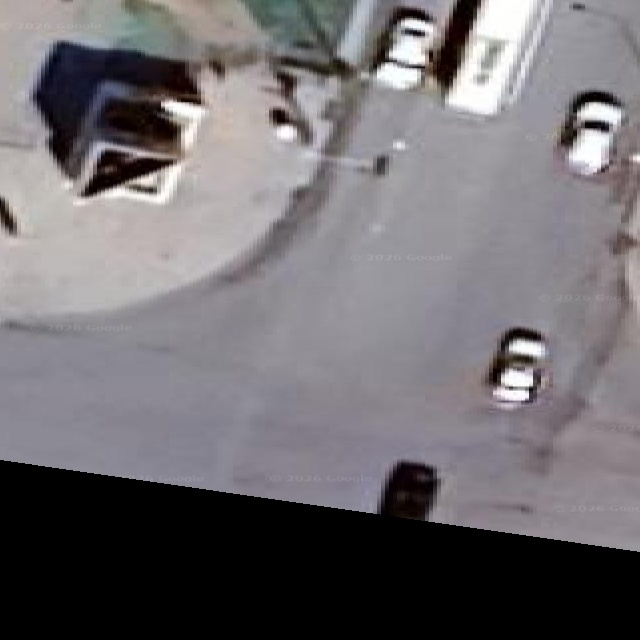car: (559, 92, 624, 176), (373, 11, 436, 89), (487, 328, 548, 408), (378, 461, 438, 519)
